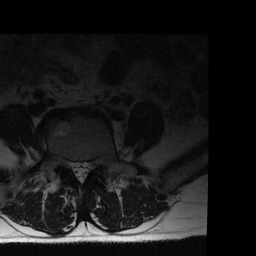CCS_normal: (77, 151, 84, 191)
LFS_normal: (91, 148, 99, 176)
LLS_normal: (84, 151, 91, 181)
RFS_normal: (61, 148, 70, 177)
RLS_normal: (69, 151, 77, 183)
